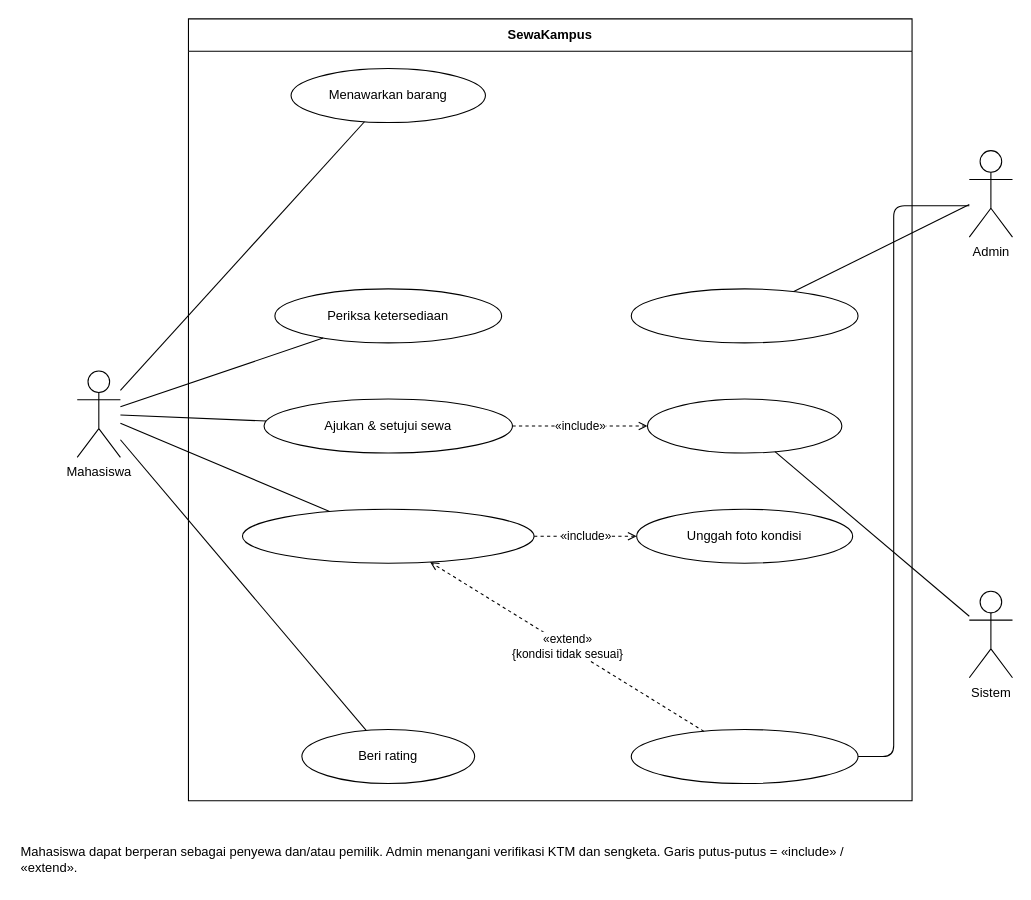
Some shapes in this 1031 by 900 pixel diagram are drawn without their labels. Here are the shapes that lost their labels. From the top down, the centre of each, then its label:
At [744,315]: "Verifikasi mahasiswa".
At [744,425]: "Kirim notifikasi".
At [387,535]: "Serah terima & pengembalian".
At [744,756]: "Selesaikan sengketa".
